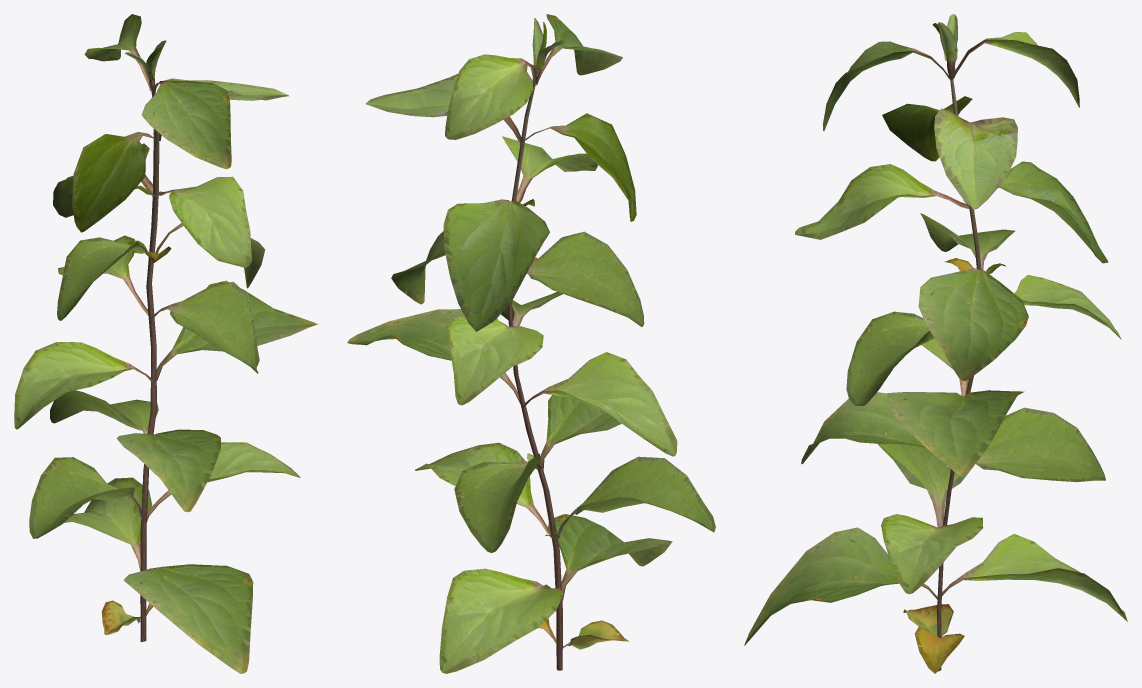
Rendered from shrub_01_b.glb.
The picture shows the model from 3 angles, left to right: view 1: azimuth 30°, elevation 25°; view 2: azimuth 150°, elevation 25°; view 3: azimuth 270°, elevation 25°; orthographic projection. The views are drawn at different scales.
Visible parts, largest first — view 1: shrub_01_b; view 2: shrub_01_b; view 3: shrub_01_b.
Part boxes in pixels (<box>): shrub_01_b: <box>14,14,318,673</box>; shrub_01_b: <box>347,14,715,673</box>; shrub_01_b: <box>744,14,1127,673</box>.
Size of the model in its own units: 0.1818 by 0.3323 by 0.175.
Materials: 1 (1 with a texture image).
